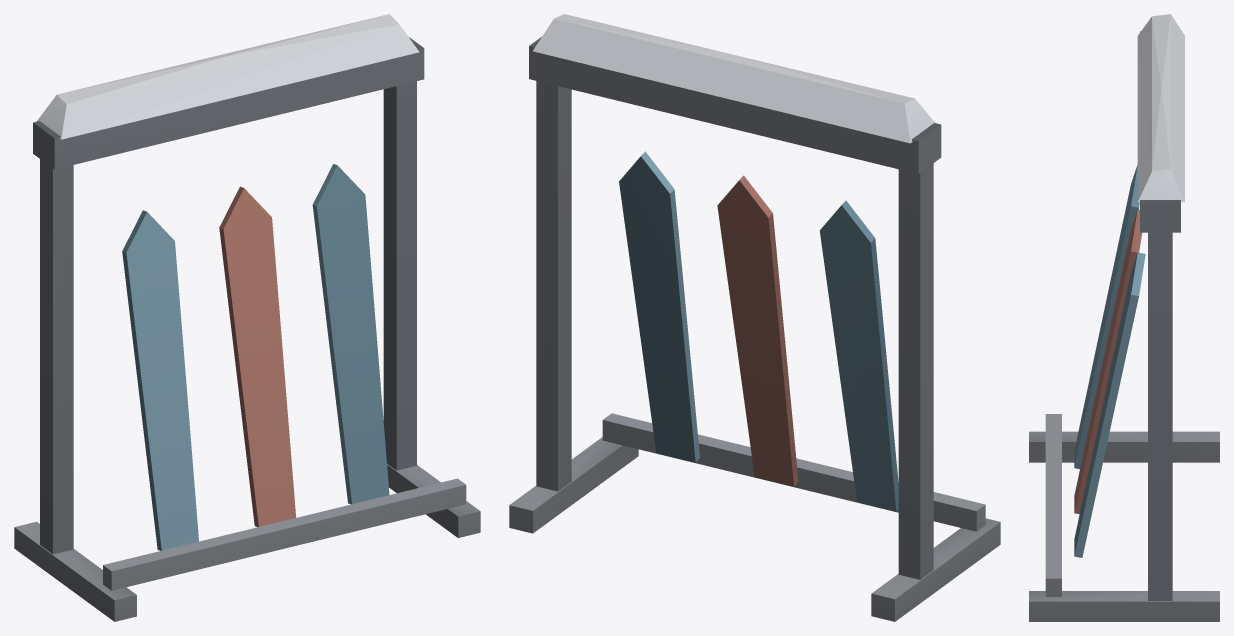
Rendered from boards.lod2.glb.
The picture shows the model from 3 angles, left to right: view 1: azimuth 30°, elevation 25°; view 2: azimuth 150°, elevation 25°; view 3: azimuth 270°, elevation 25°; orthographic projection. The views are drawn at different scales.
Bounding box in the file's own units: 1.98 × 2.41 × 0.93.
